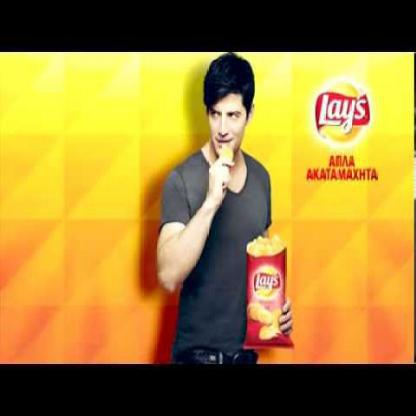tangy_tomato: (244, 250, 294, 349)
